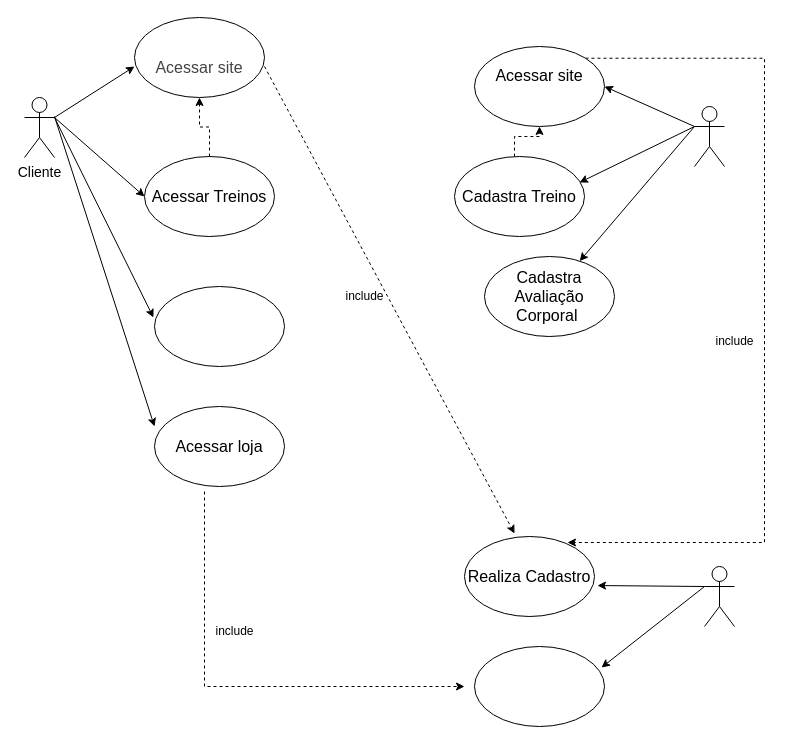
This 790x744 diagram has some shape labels left out. Each missing label, with the centre of its shape:
Acessar Mensalidades: the point at 219,326
Gerenciamento da loja: the point at 539,686
Gerente: the point at 719,596
Instrutor: the point at 709,136
